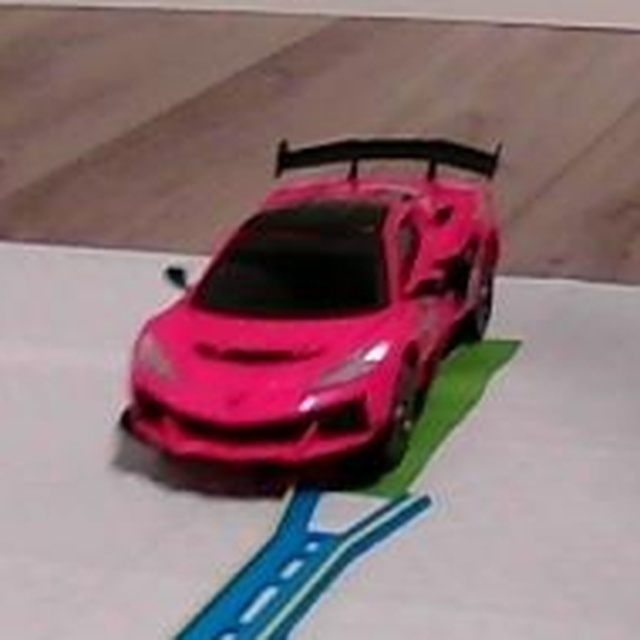tire_rear_driver: (455, 285, 490, 350)
